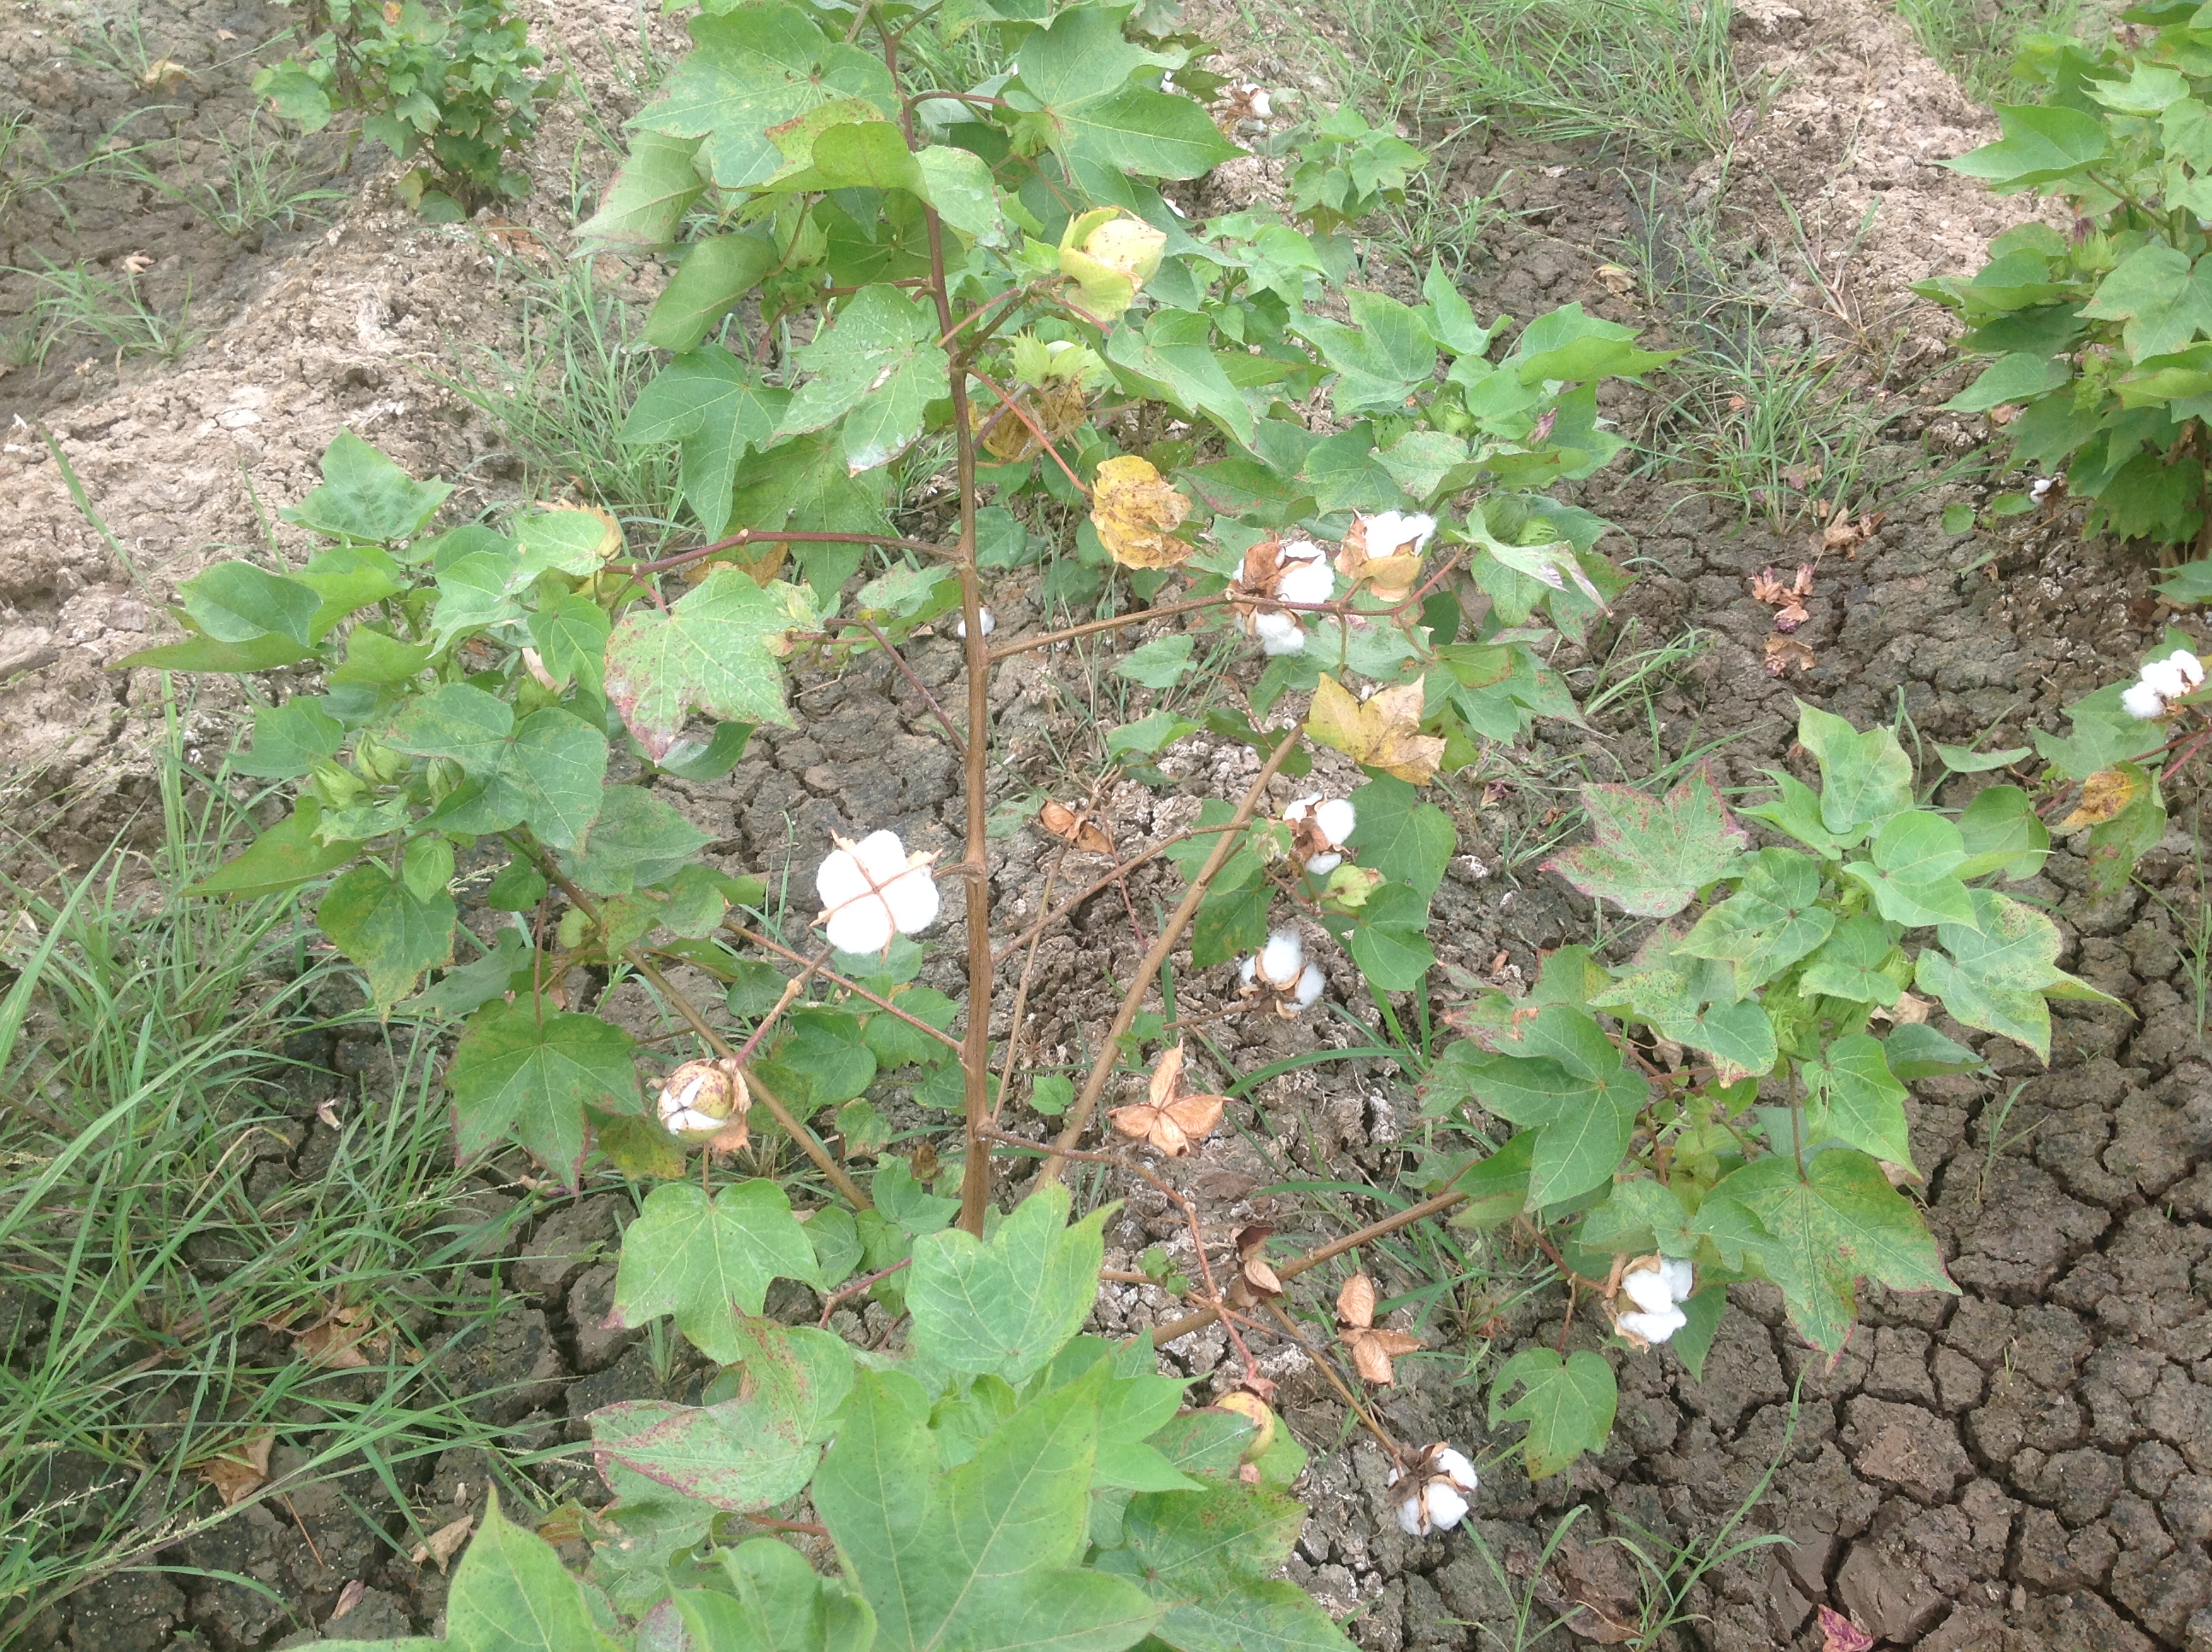cotton: (808, 828, 946, 963), (1227, 524, 1336, 654), (1600, 1242, 1709, 1364), (1384, 1435, 1492, 1551), (1265, 790, 1367, 887), (1343, 500, 1450, 590), (1237, 927, 1336, 1013), (2124, 649, 2212, 732)
